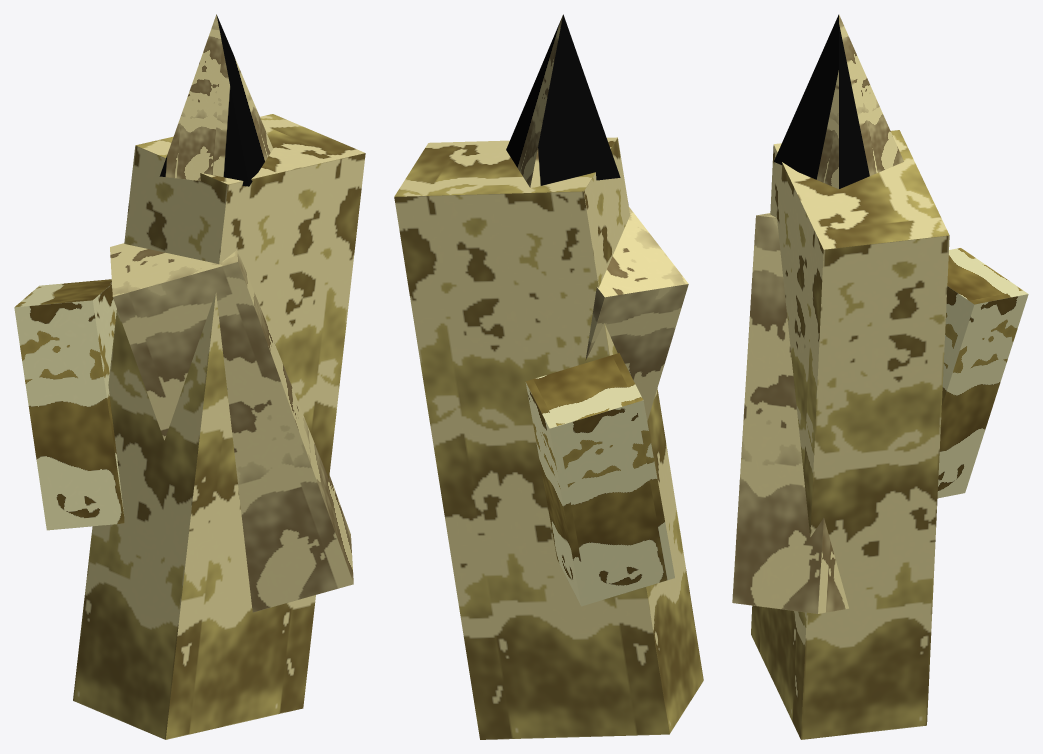
Rendered from voltite_item.glb.
3 renders of one model, left to right at view 1: azimuth 30°, elevation 25°; view 2: azimuth 150°, elevation 25°; view 3: azimuth 270°, elevation 25°, orthographic.
Parts seen in each view (by area): view 1: ShardMain, ShardCross, ShardSmall, EnergyTip; view 2: ShardMain, ShardSmall, ShardCross, EnergyTip; view 3: ShardMain, ShardCross, ShardSmall, EnergyTip.
Boxes of the visible parts, x1,y1,x2,y2 form: ShardMain: (73, 114, 365, 739); ShardCross: (110, 243, 353, 612); ShardSmall: (14, 279, 124, 530); EnergyTip: (159, 14, 273, 186); ShardMain: (394, 137, 703, 739); ShardSmall: (525, 353, 674, 606); ShardCross: (585, 207, 688, 420); EnergyTip: (506, 14, 620, 187); ShardMain: (751, 130, 949, 739); ShardCross: (732, 213, 848, 613); ShardSmall: (937, 248, 1028, 498); EnergyTip: (774, 14, 903, 189).
Size of the model in its own units: 0.0994 by 0.2345 by 0.0909.
3 materials, 3 textured.
